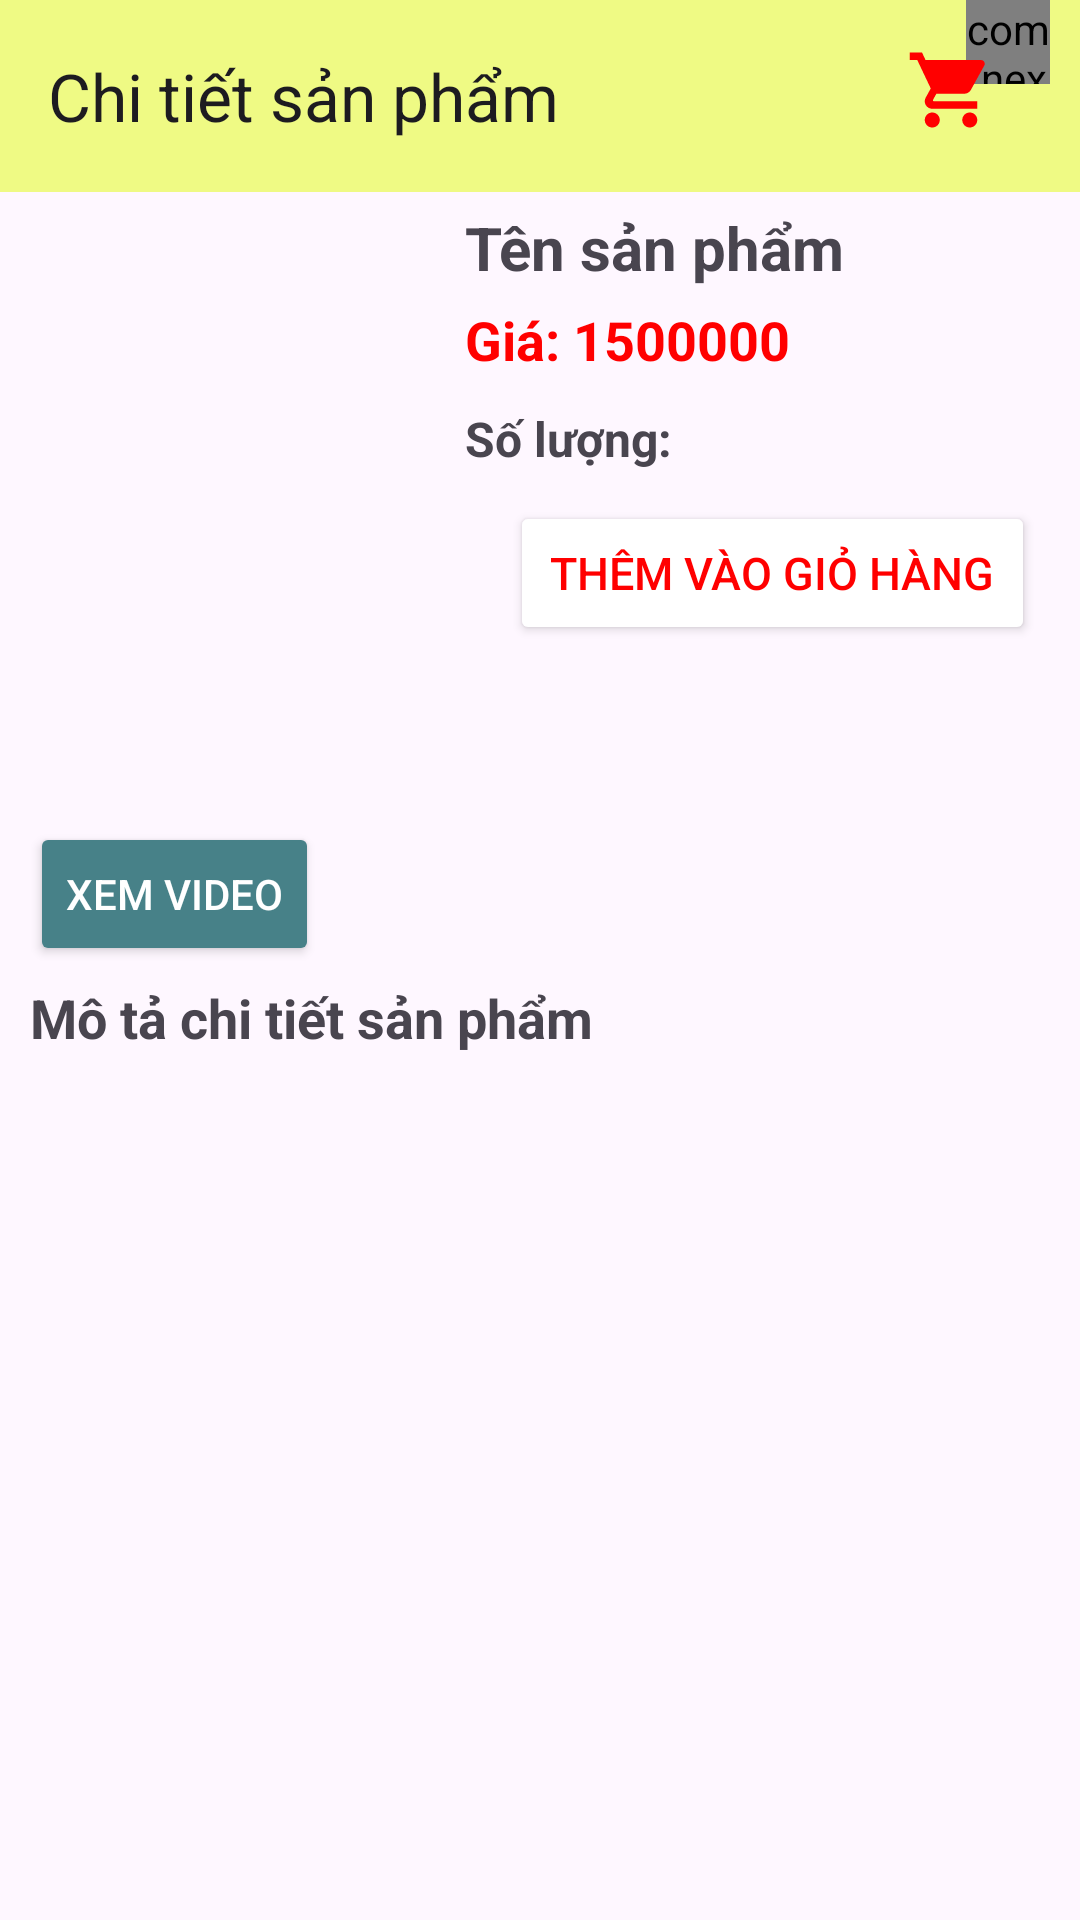

Where icons sit on this 1080px x 1920px app screen, as [x1,y1,x2,y2]:
shopping cart: [909,45,996,128]
